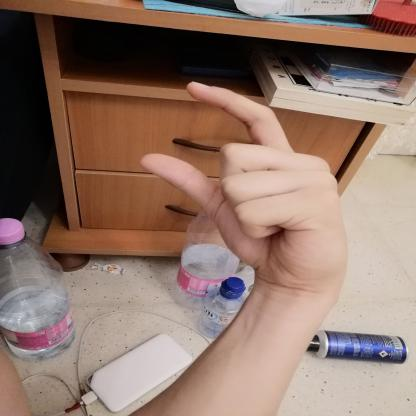DELL: (123, 72, 367, 303)
